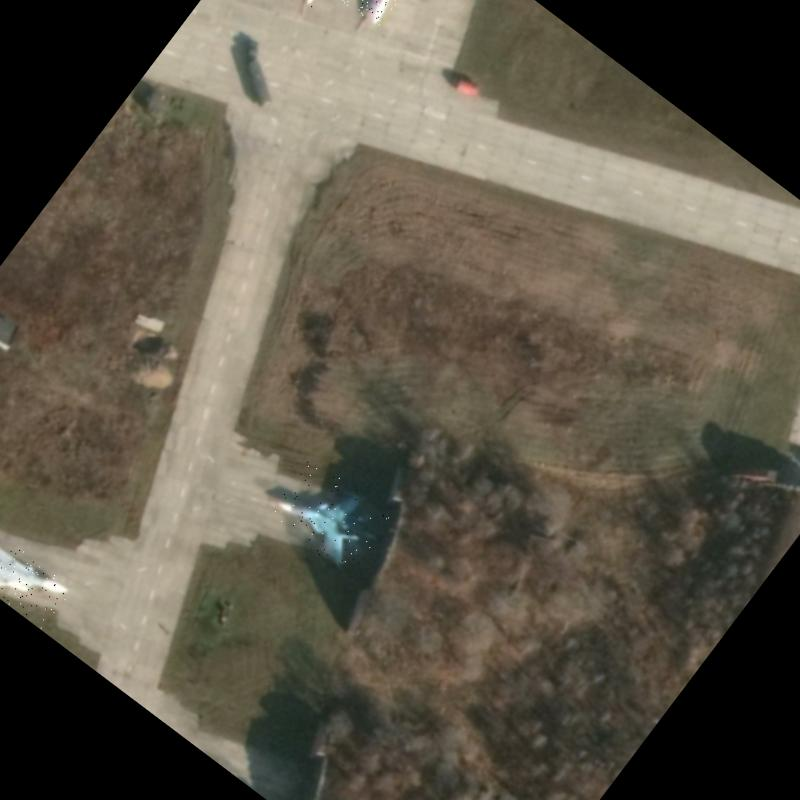A19: (266, 456, 394, 579)
A20: (0, 527, 73, 630), (332, 0, 438, 29)
